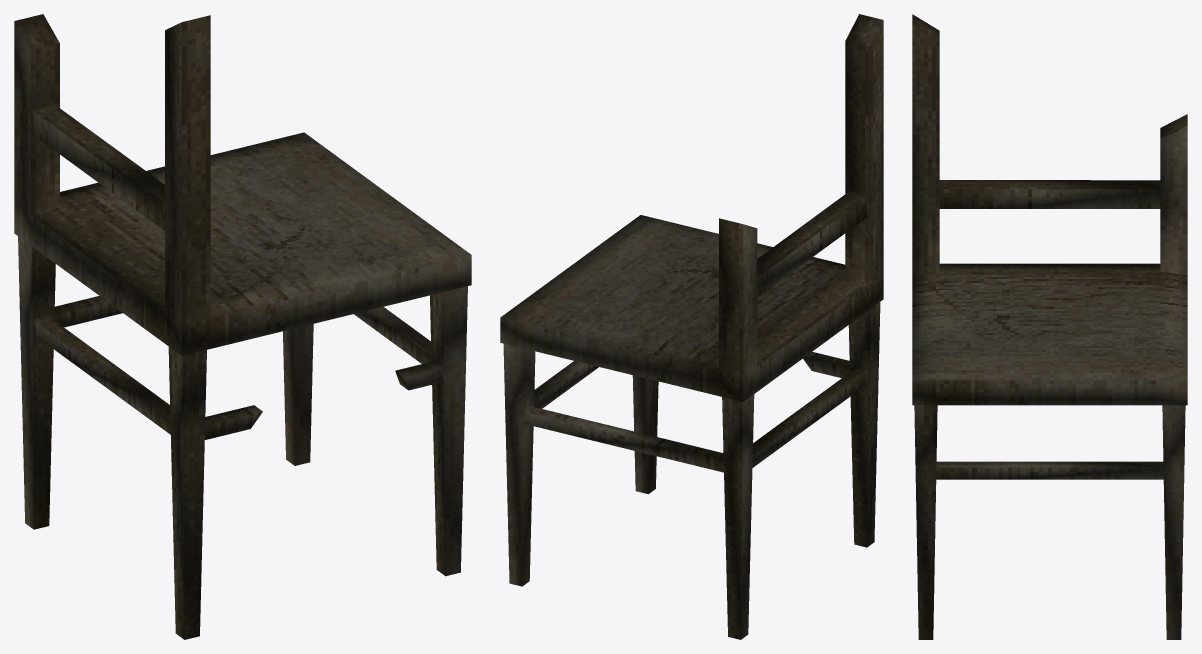
Rendered from psx_chair.glb.
3 renders of one model, left to right at view 1: azimuth 30°, elevation 25°; view 2: azimuth 150°, elevation 25°; view 3: azimuth 270°, elevation 25°, orthographic. The views are drawn at different scales.
Parts seen in each view (by area): view 1: Chair; view 2: Chair; view 3: Chair.
Part boxes in pixels (x1,y1,x2,y2): Chair: (14,14,471,639); Chair: (500,14,883,639); Chair: (912,14,1187,639).
Bounding box in the file's own units: 0.5 × 1.03 × 0.5.
Materials: 1 (1 with a texture image).
